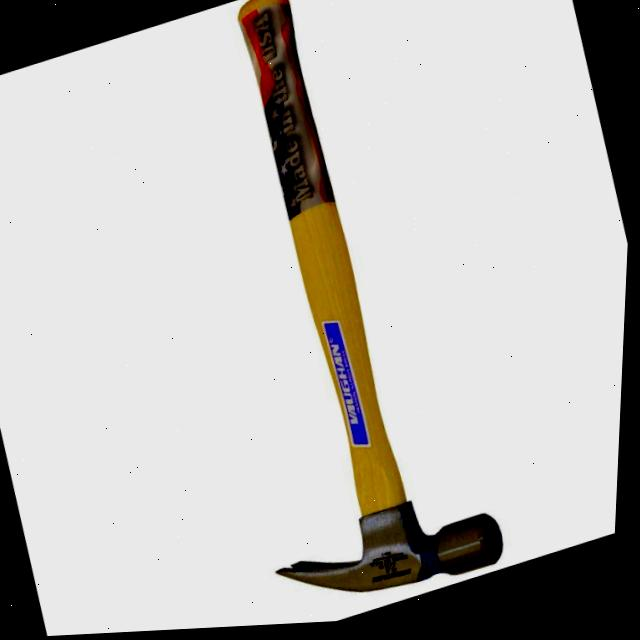hammer: (122, 0, 542, 634)
